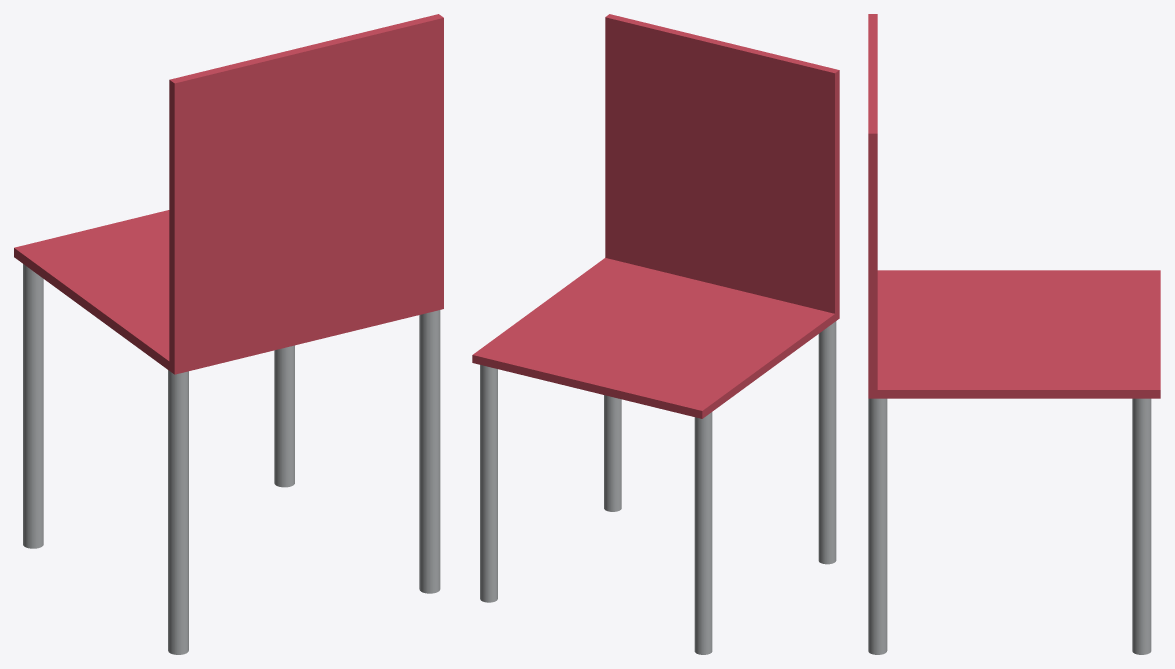
Rendered from kursi.glb.
3 views of the same model, side by side, from view 1: azimuth 30°, elevation 25°; view 2: azimuth 150°, elevation 25°; view 3: azimuth 270°, elevation 25° (orthographic). The views are drawn at different scales.
Visible parts, largest first — view 1: Mesh_Mesh_head_geo.001_lambert2SG.001; view 2: Mesh_Mesh_head_geo.001_lambert2SG.001; view 3: Mesh_Mesh_head_geo.001_lambert2SG.001.
Boxes of the visible parts, x1,y1,x2,y2 form: Mesh_Mesh_head_geo.001_lambert2SG.001: (14, 14, 443, 654); Mesh_Mesh_head_geo.001_lambert2SG.001: (472, 14, 839, 654); Mesh_Mesh_head_geo.001_lambert2SG.001: (868, 14, 1160, 654).
Bounding box in the file's own units: 0.03 × 0.061 × 0.031.
